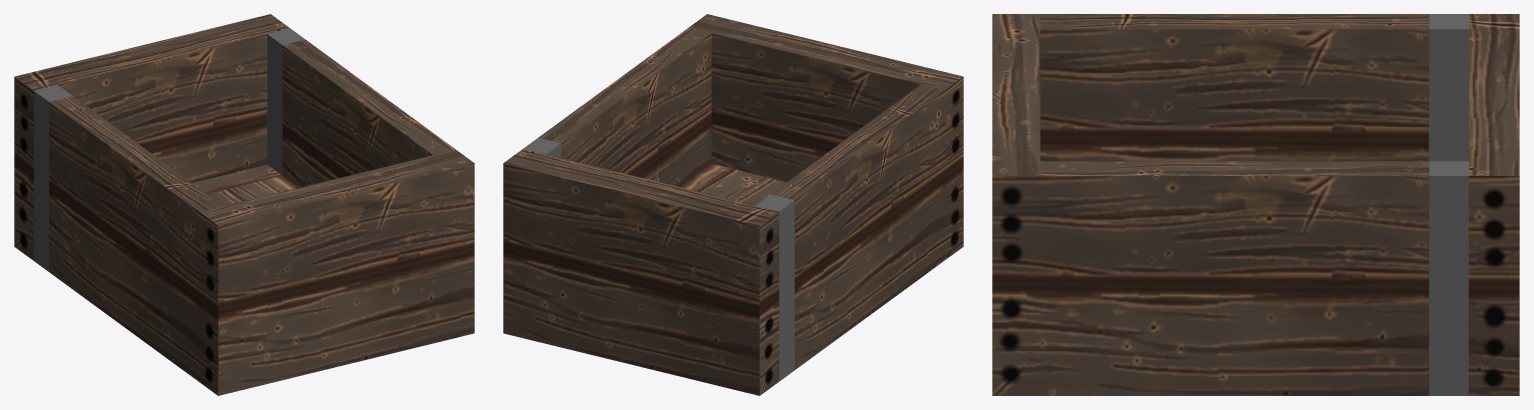
The model's file is Crate.fbx.
3 views of the same model, side by side, from view 1: azimuth 30°, elevation 25°; view 2: azimuth 150°, elevation 25°; view 3: azimuth 270°, elevation 25° (orthographic). The views are drawn at different scales.
Parts seen in each view (by area): view 1: Cassa; view 2: Cassa; view 3: Cassa.
Boxes of the visible parts, x1=… form: Cassa: x1=14, y1=14, x2=474, y2=395; Cassa: x1=503, y1=14, x2=963, y2=395; Cassa: x1=992, y1=14, x2=1519, y2=395.
Bounding box in the file's own units: 0.2546 × 0.1614 × 0.3507.
